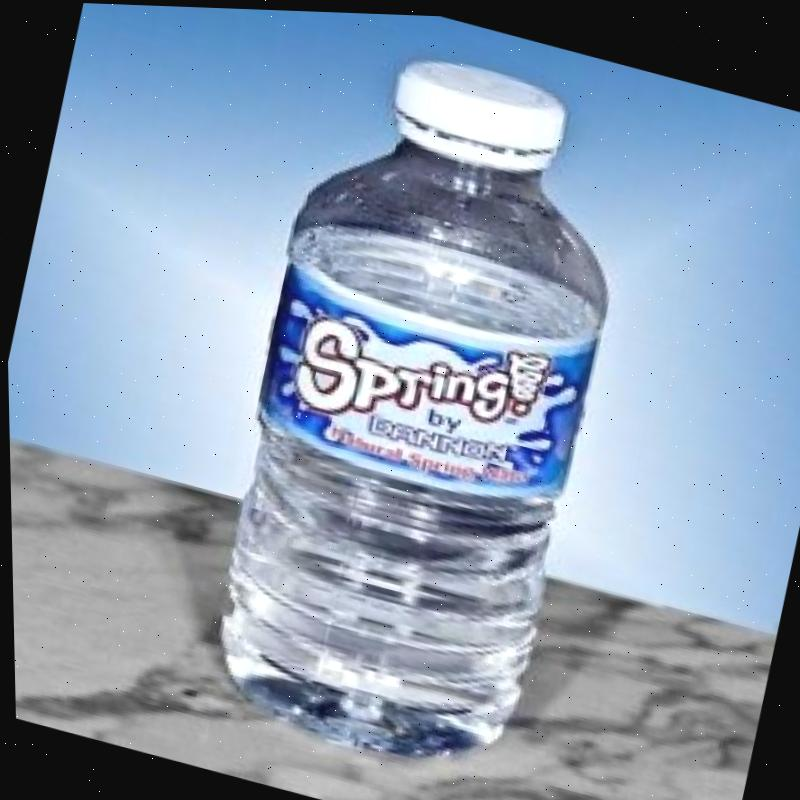botella: (166, 14, 663, 785)
